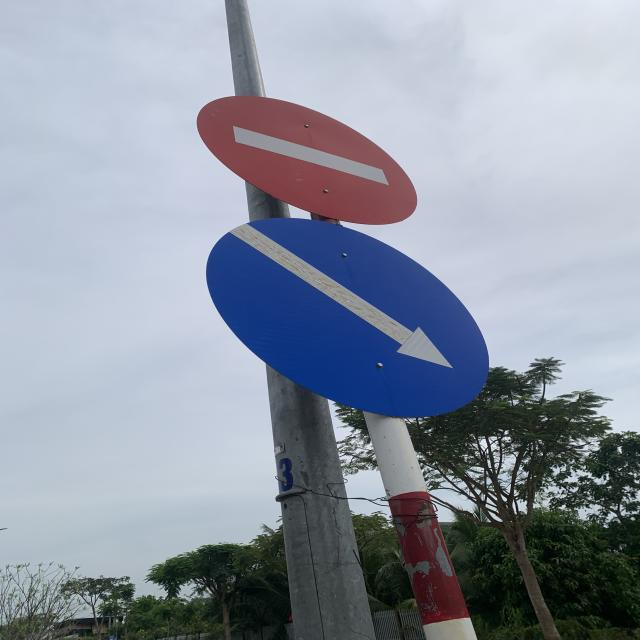Cam_Di_Nguoc_Chieu: (196, 94, 424, 225)
Chi_Huong_Di_Phai: (208, 214, 490, 420)
